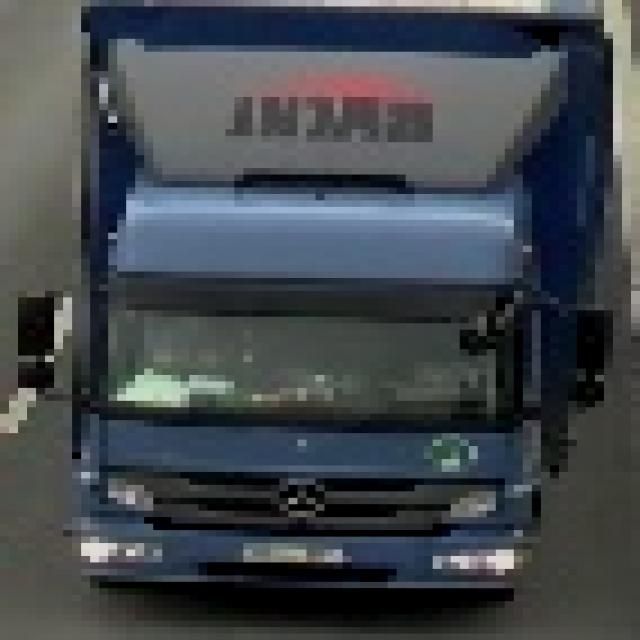TRUCK: (50, 6, 625, 604)
